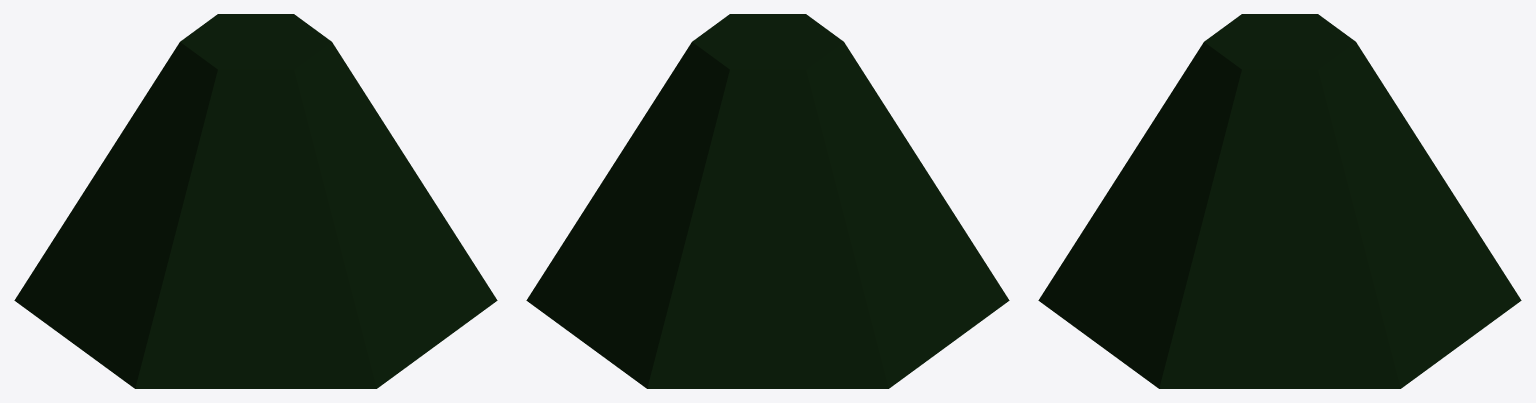
File: jalapenoStemCollider.obj
The picture shows the model from 3 angles, left to right: view 1: azimuth 30°, elevation 25°; view 2: azimuth 150°, elevation 25°; view 3: azimuth 270°, elevation 25°; orthographic projection.
Visible parts, largest first — view 1: carrotBody.001; view 2: carrotBody.001; view 3: carrotBody.001.
Part boxes in pixels (x1,y1,x2,y2): carrotBody.001: [14, 14, 497, 388]; carrotBody.001: [526, 14, 1009, 388]; carrotBody.001: [1038, 14, 1521, 388].
Size of the model in its own units: 0.0727 by 0.0496 by 0.0839.
